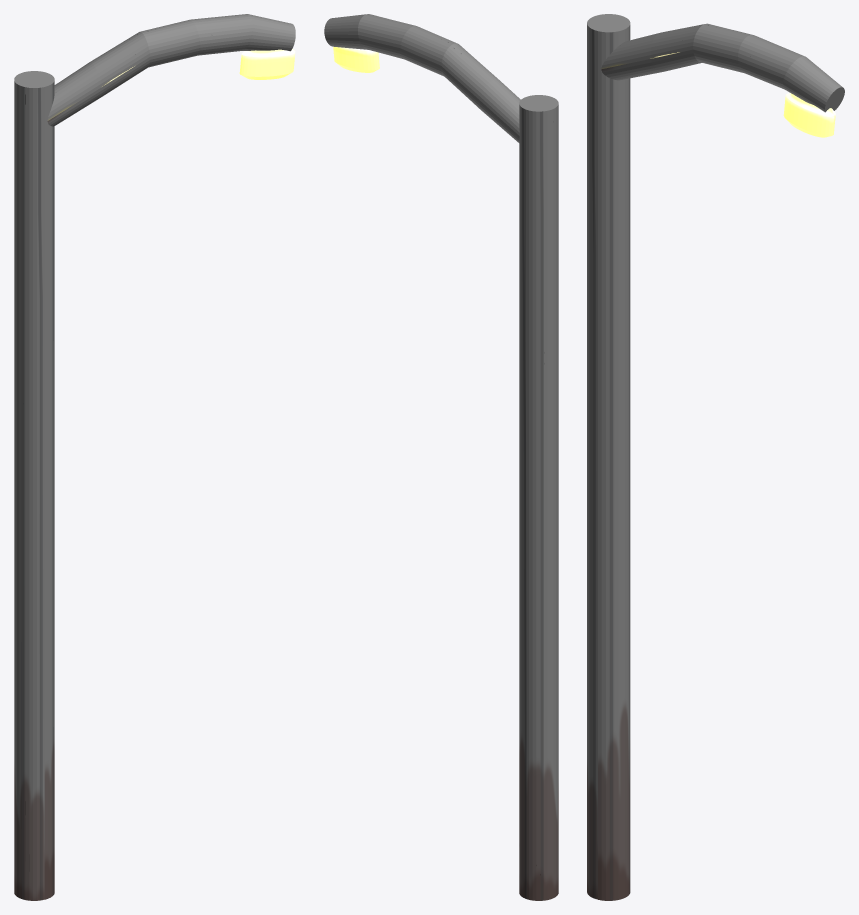
The model's file is streetlamp.fbx.
3 renders of one model, left to right at view 1: azimuth 30°, elevation 25°; view 2: azimuth 150°, elevation 25°; view 3: azimuth 330°, elevation 25°, orthographic. The views are drawn at different scales.
Parts seen in each view (by area): view 1: Pole; view 2: Pole; view 3: Pole.
Part boxes in pixels (box(x1,y1,x2,y2)): Pole: box(14, 14, 295, 900); Pole: box(324, 14, 558, 900); Pole: box(587, 14, 844, 900).
Size of the model in its own units: 1448 by 4590 by 381.
